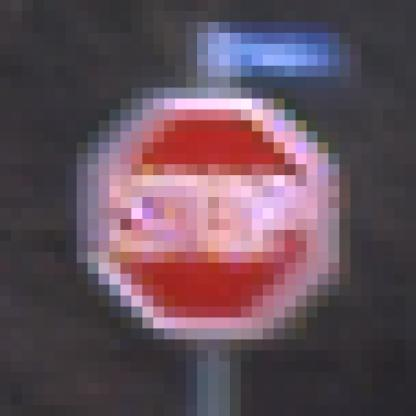Stop: (101, 105, 330, 330)
